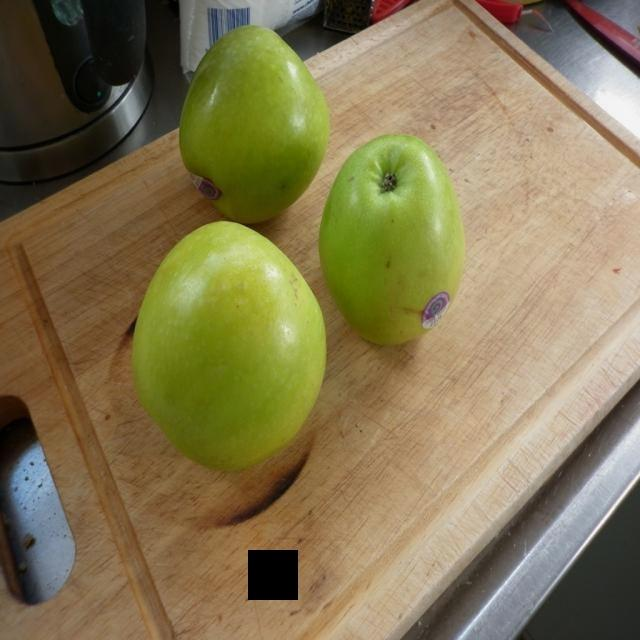green apple: (125, 222, 332, 483), (171, 22, 326, 231), (317, 131, 468, 341)
